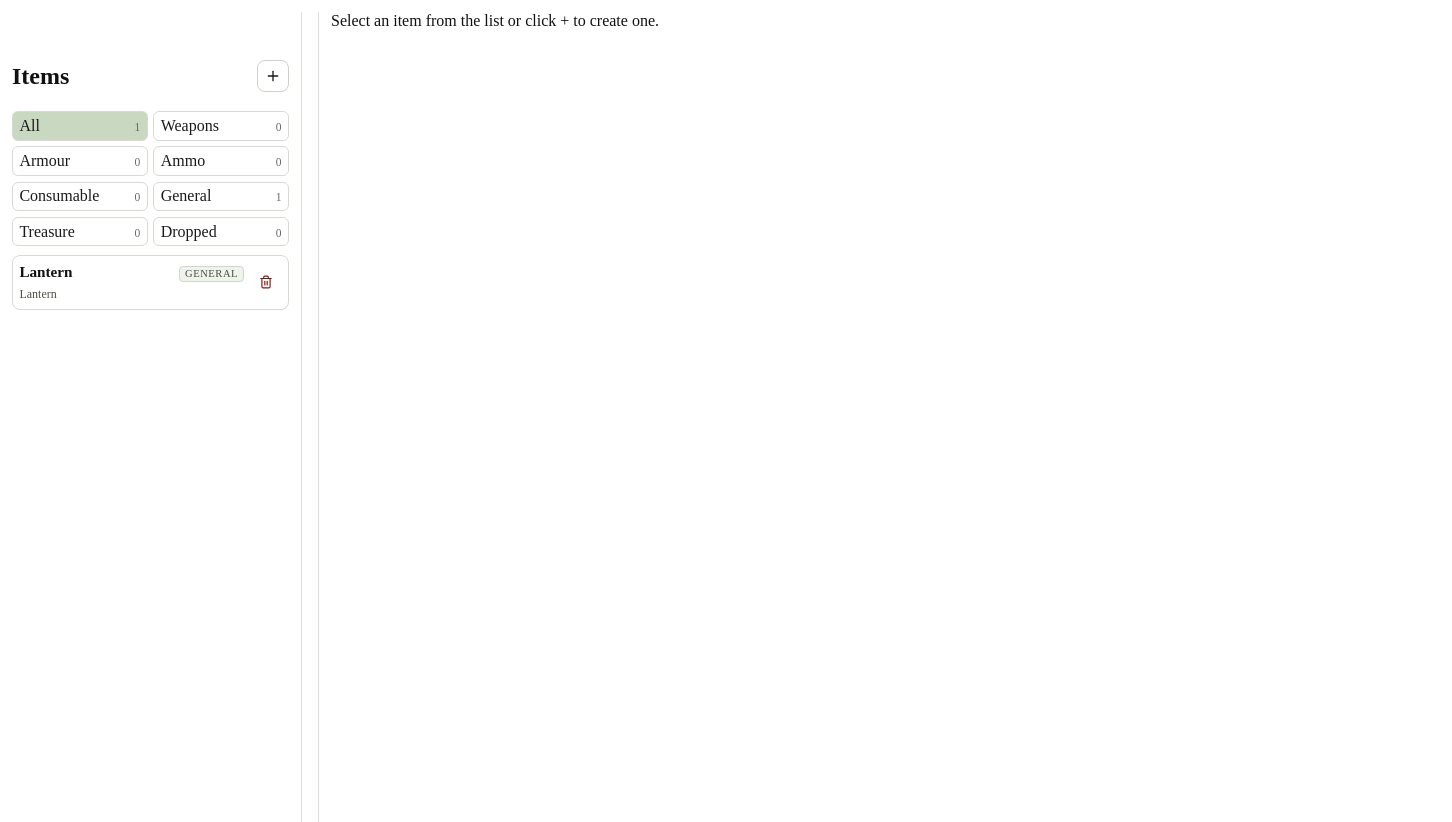
Test: Items tab character grants › adds a non-gold item at the current version, preserving unknown details, and stamps it
This screenshot has width=1452, height=822.
Click the button "Lantern general Lantern".
click(46, 271)  # box [19,262,244,302]
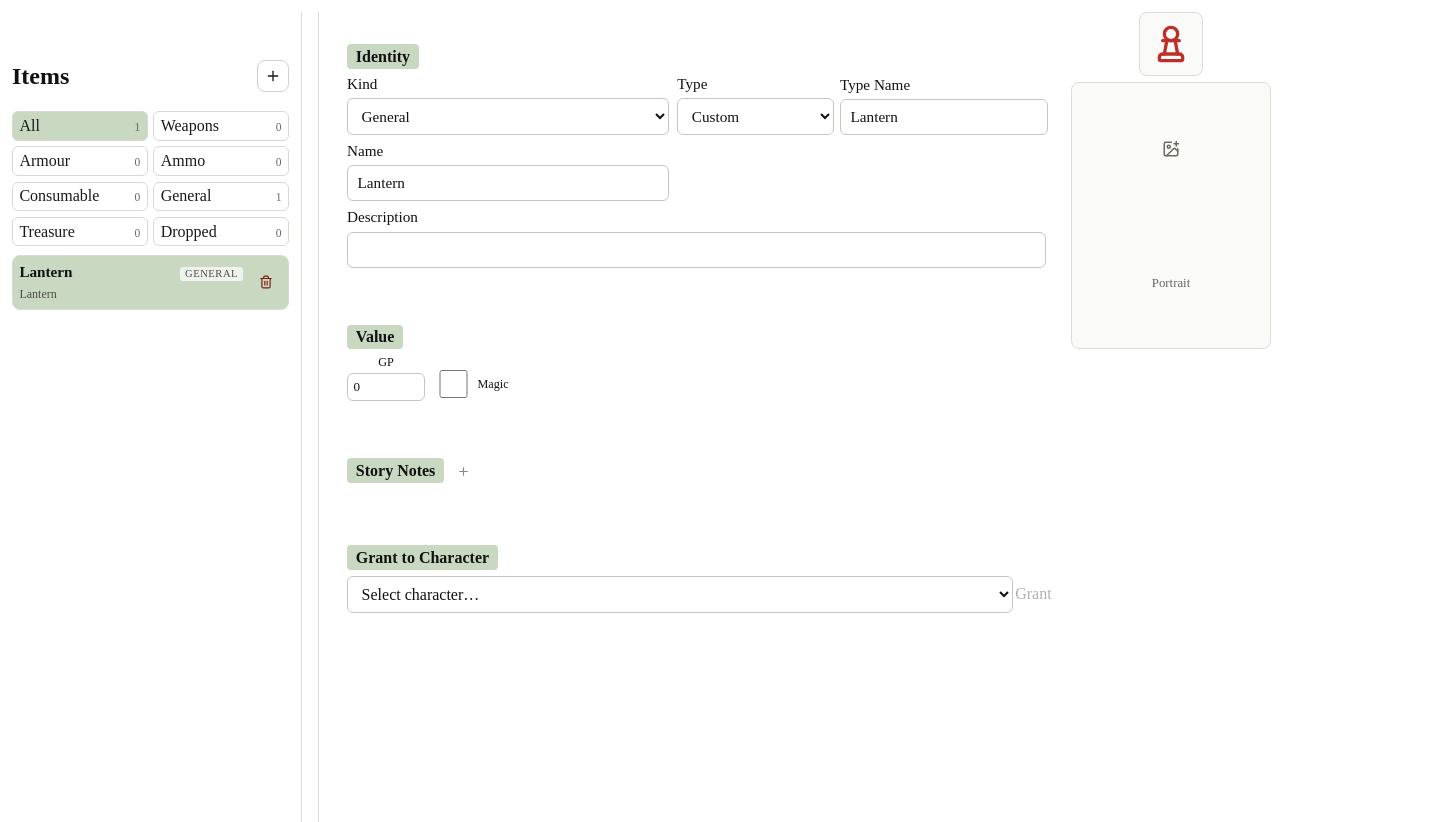
Select "Ada (Fighter 1)" in the 3rd dropdown at (680, 594), box [347,576,1013,613]
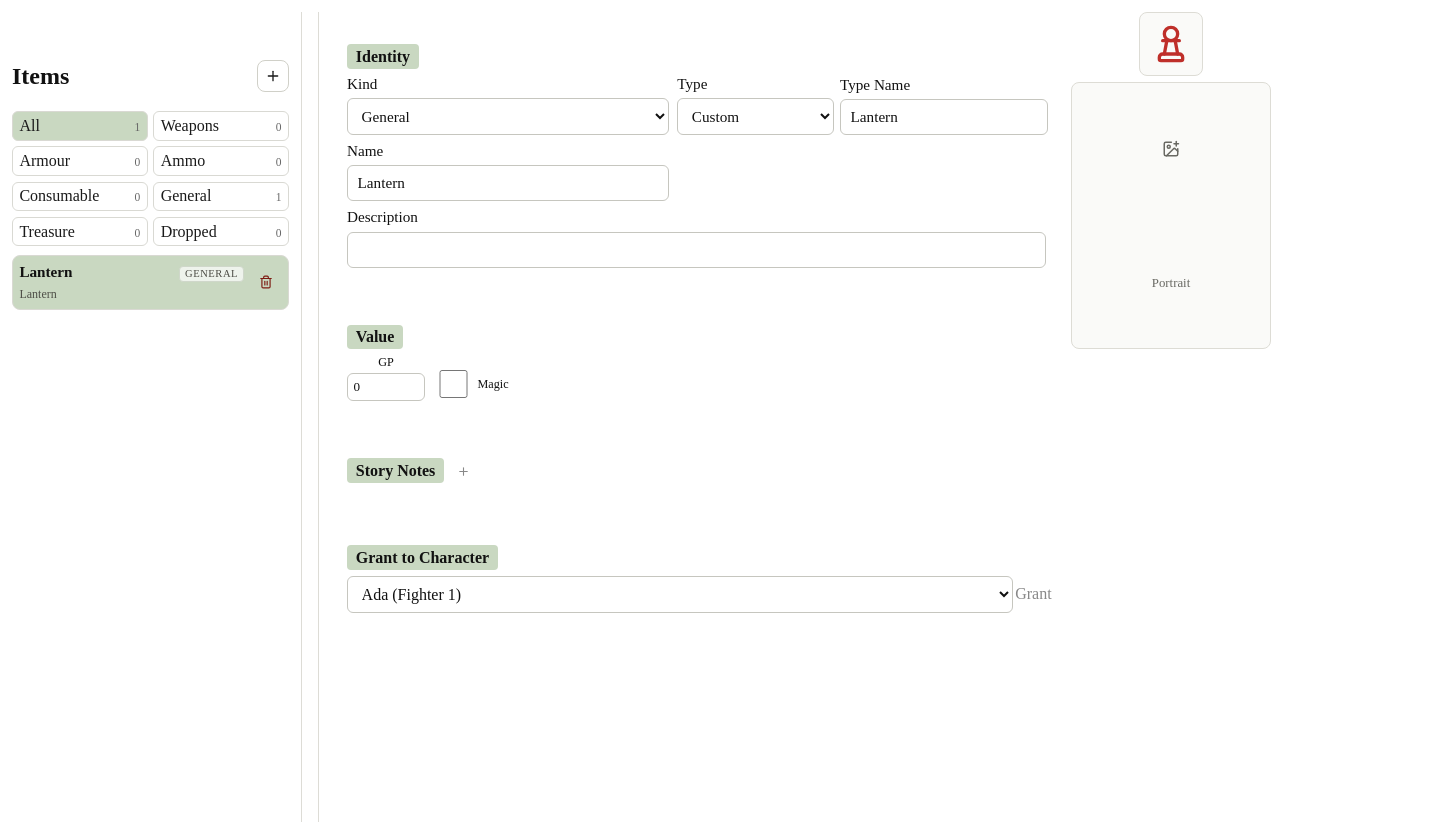
Click the button with aria-label "Grant item to selected character".
click(1033, 594)  # box [1021,582,1046,607]
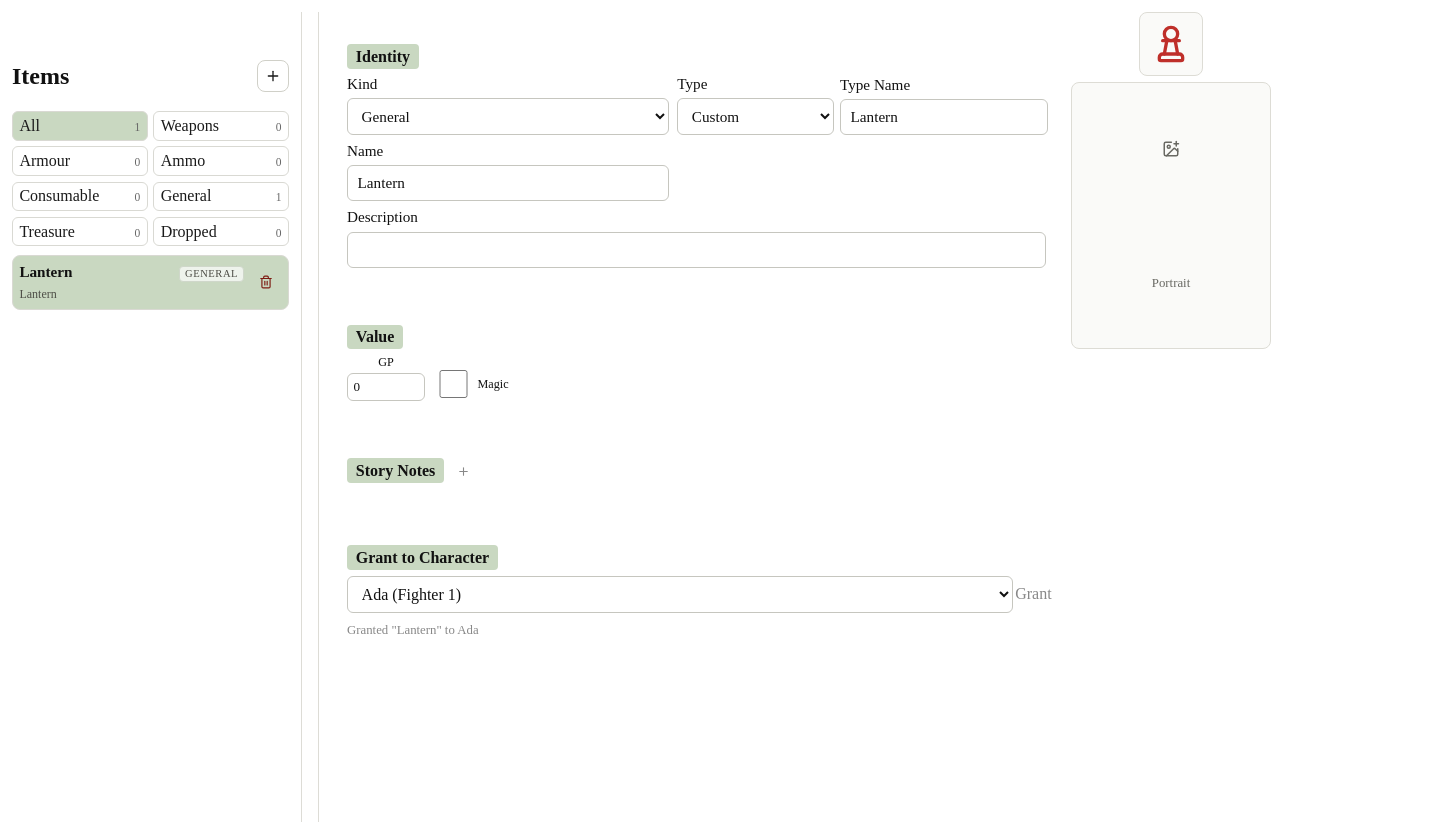
Now the button with aria-label "Grant item to selected character" is enabled, box [1021,582,1046,607]
Now the text "Granted \"Lantern\" to Ada" is shown, box [347,622,479,636]
